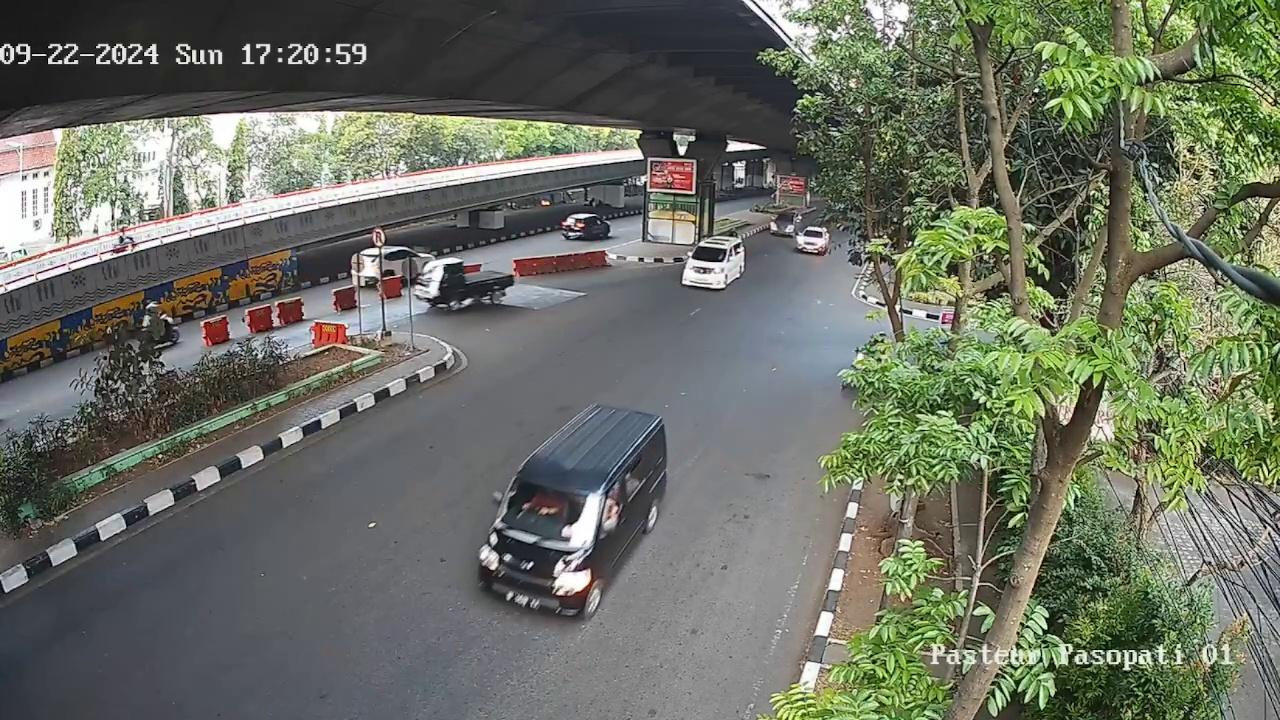tidak-pakai: (528, 490, 562, 526)
windshield: (497, 476, 608, 551), (692, 246, 727, 262)
